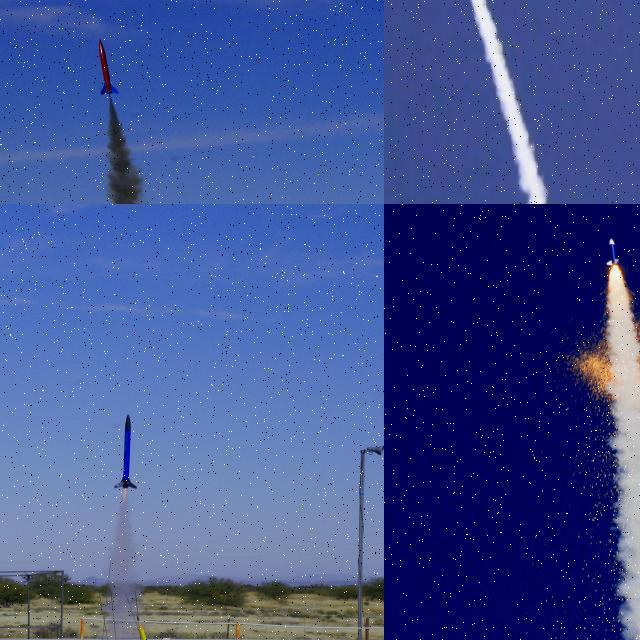Rocket: (113, 415, 138, 489), (97, 38, 120, 96), (136, 614, 166, 640), (607, 238, 619, 266)
